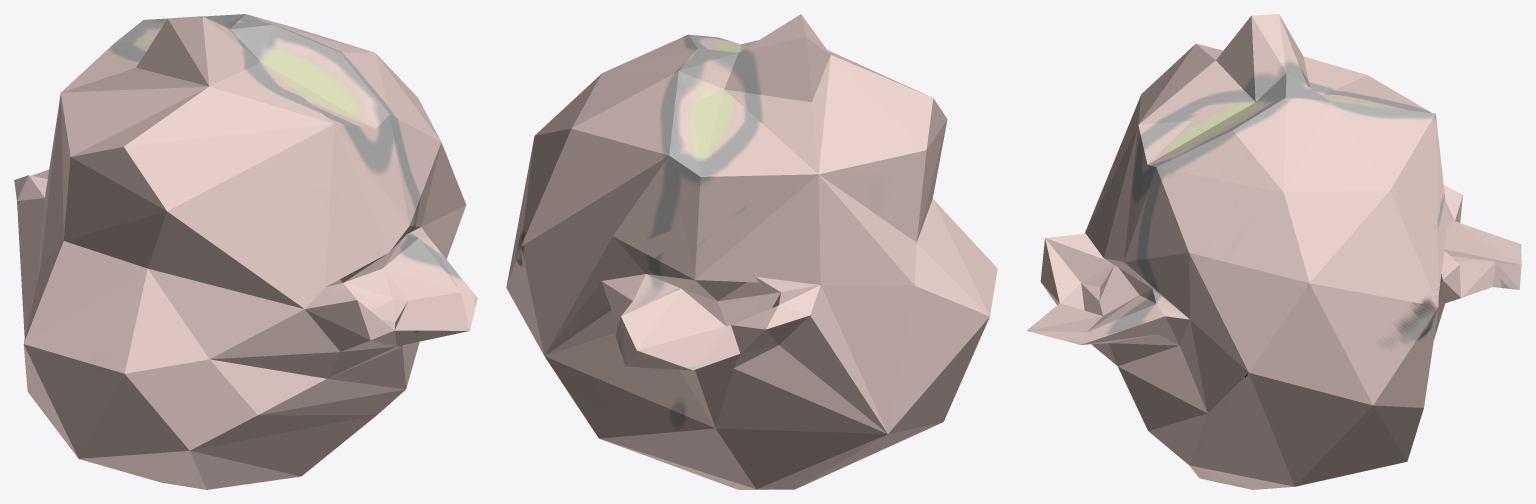
Rendered from duck.dae.
3 views of the same model, side by side, from view 1: azimuth 30°, elevation 25°; view 2: azimuth 150°, elevation 25°; view 3: azimuth 270°, elevation 25° (orthographic). The views are drawn at different scales.
Visible parts, largest first — view 1: Sphere_002; view 2: Sphere_002; view 3: Sphere_002.
Part boxes in pixels (box(x1,y1,x2,y2)): Sphere_002: box(14, 14, 477, 489); Sphere_002: box(506, 14, 997, 489); Sphere_002: box(1027, 14, 1521, 489).
Bounding box in the file's own units: 1.99 × 2.01 × 2.
